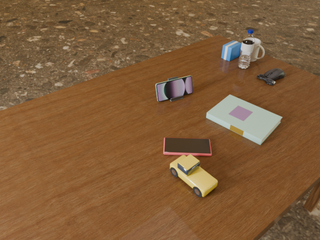book: (206, 95, 282, 145)
bottle: (238, 29, 255, 69)
box: (221, 41, 242, 61)
cup: (251, 38, 265, 61)
mouse: (257, 68, 285, 85)
phone: (156, 76, 193, 102), (164, 138, 212, 156)
toy_car: (170, 154, 218, 197)
